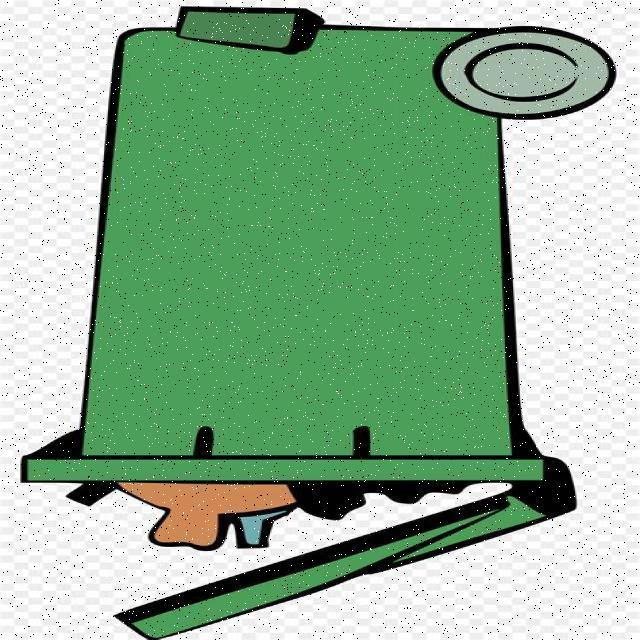garbage container: (2, 9, 613, 637)
